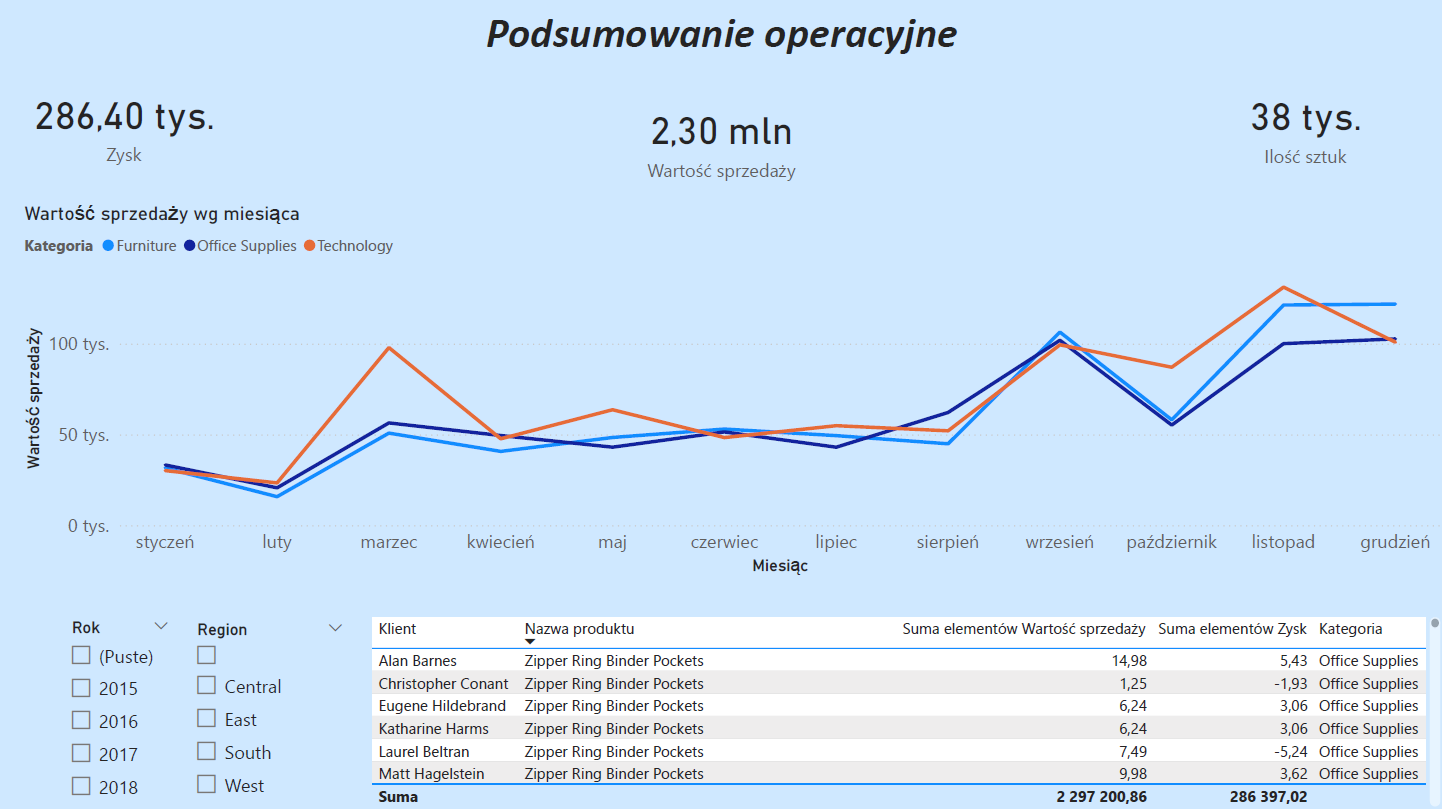

The dashboard page shown, as its layout file describes it:
{"tool":"powerbi","page":{"name":"Strona 1","canvas":[1280,720],"ordinal":0},"visuals":[{"type":"lineChart","title":"Wartość sprzedaży wg miesiąca","fields":{"Y":["Sum(Sprzedaże.Wartość sprzedaży)"],"Category":["Zamówienia.Data zamówienia.Odmiana.Hierarchia dat.Miesiąc"],"Series":["Produkty.Kategoria"]},"box":[19,180,1261,335],"z":0},{"type":"slicer","fields":{"Values":["Zamówienia.Data zamówienia.Odmiana.Hierarchia dat.Rok"]},"box":[53,544,111,176],"z":1000},{"type":"card","fields":{"Values":["Sum(Sprzedaże.Zysk)"]},"box":[0,44,224,136],"z":2000},{"type":"card","fields":{"Values":["Sum(Sprzedaże.Wartość sprzedaży)"]},"box":[501,71,278,109],"z":3000},{"type":"card","fields":{"Values":["Sum(Sprzedaże.Ilość sztuk)"]},"box":[1032,60,248,106],"z":4000},{"type":"slicer","fields":{"Values":["Klienci.Region"]},"box":[164,546,154,174],"z":5000},{"type":"tableEx","fields":{"Values":["Klienci.Klient","Produkty.Nazwa produktu","Sum(Sprzedaże.Wartość sprzedaży)","Sum(Sprzedaże.Zysk)","Produkty.Kategoria"]},"box":[326,515,922,205],"z":6000},{"type":"textbox","box":[1,3,1279,68],"z":7000}]}

Visuals, with their boxes in screenshot pixels (x1, y1, x2, y2), scaled from the page's 1280x720 canvas onto the 1442x809 screenshot:
"Wartość sprzedaży wg miesiąca" lineChart: crop(21, 202, 1441, 579)
slicer - Zamówienia.Data zamówienia.Odmiana.Hierarchia dat.Rok: crop(60, 611, 185, 808)
card - Sum(Sprzedaże.Zysk): crop(0, 49, 252, 202)
card - Sum(Sprzedaże.Wartość sprzedaży): crop(564, 80, 878, 202)
card - Sum(Sprzedaże.Ilość sztuk): crop(1163, 67, 1441, 187)
slicer - Klienci.Region: crop(185, 613, 358, 808)
tableEx - Klienci.Klient x Produkty.Nazwa produktu: crop(367, 579, 1406, 808)
textbox: crop(1, 3, 1441, 80)
